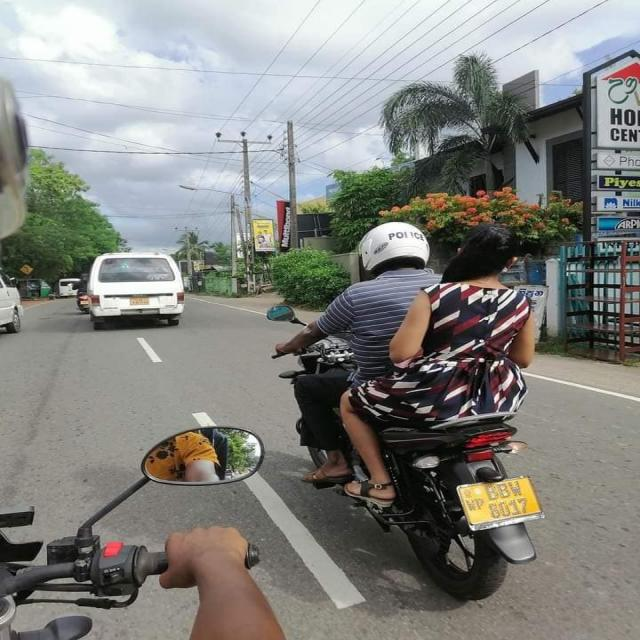helmet: (330, 215, 442, 284)
no-helmet: (437, 220, 530, 288)
